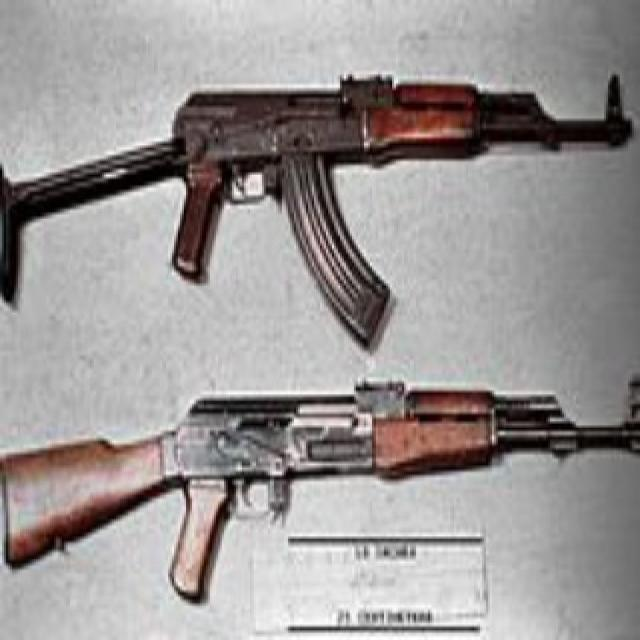rifle: (1, 54, 637, 344), (3, 361, 639, 603)
